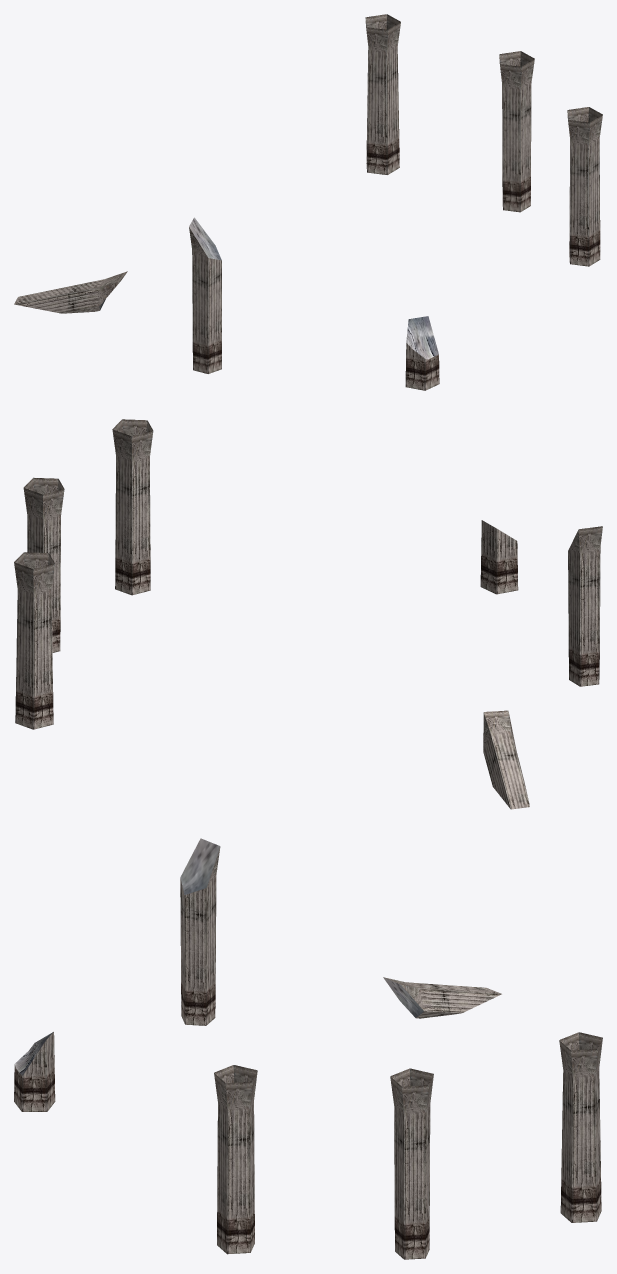
The model's file is zhu01.obj.
The picture shows the model from 3 angles, top to bottom: view 1: azimuth 30°, elevation 25°; view 2: azimuth 150°, elevation 25°; view 3: azimuth 270°, elevation 25°; orthographic projection. The views are drawn at different scales.
Visible parts, largest first — view 1: zhu01; view 2: zhu01; view 3: zhu01.
Boxes of the visible parts, left/top/right/bottom form: zhu01: left=14, top=14, right=602, bottom=390; zhu01: left=14, top=419, right=602, bottom=809; zhu01: left=14, top=838, right=602, bottom=1259.
Bounding box in the file's own units: 350 × 106 × 310.
